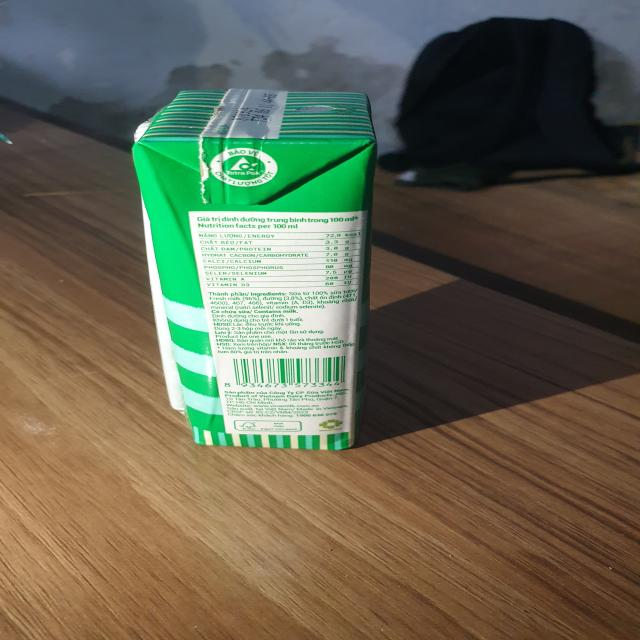Vina: (122, 85, 389, 454)
